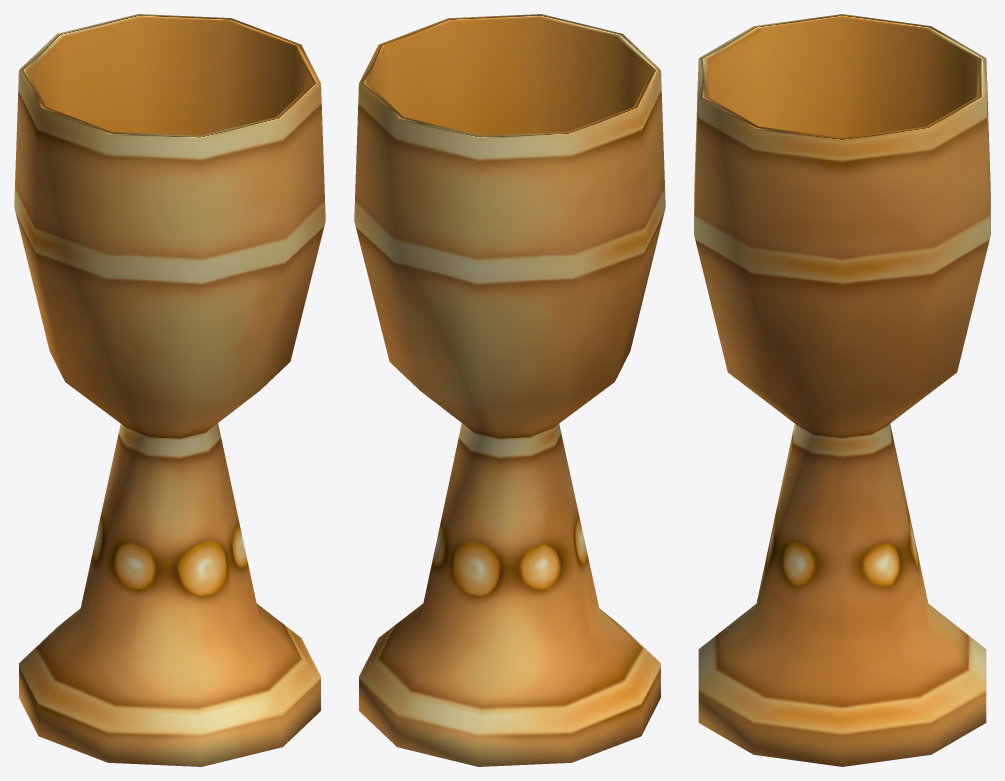
The model's file is cup_09.fbx.
The picture shows the model from 3 angles, left to right: view 1: azimuth 30°, elevation 25°; view 2: azimuth 150°, elevation 25°; view 3: azimuth 270°, elevation 25°; orthographic projection.
Visible parts, largest first — view 1: cup_09; view 2: cup_09; view 3: cup_09.
Boxes of the visible parts, x1,y1,x2,y2 form: cup_09: [14, 14, 325, 766]; cup_09: [354, 14, 665, 766]; cup_09: [694, 14, 990, 766].
Bounding box in the file's own units: 7.45 × 16.46 × 7.08.
